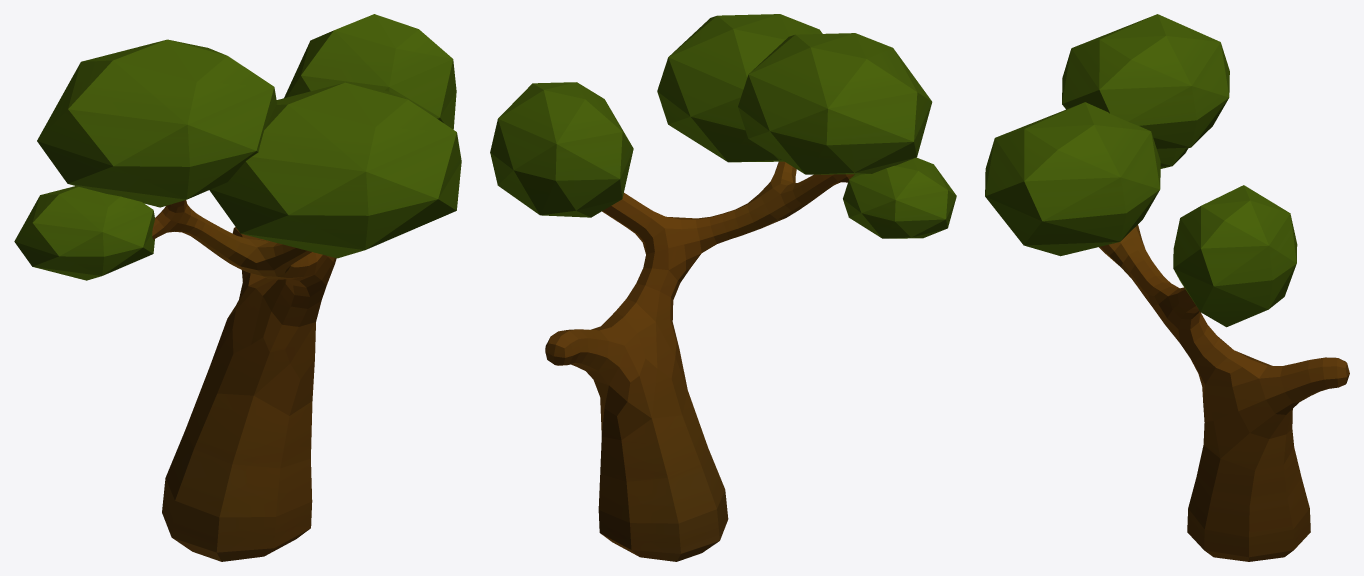
Rendered from arbol5.fbx.
The picture shows the model from 3 angles, left to right: view 1: azimuth 30°, elevation 25°; view 2: azimuth 150°, elevation 25°; view 3: azimuth 270°, elevation 25°; orthographic projection. The views are drawn at different scales.
Parts seen in each view (by area): view 1: Plane.003; view 2: Plane.003; view 3: Plane.003.
Part boxes in pixels (x1=…): Plane.003: x1=14, y1=14, x2=461, y2=561; Plane.003: x1=490, y1=14, x2=956, y2=561; Plane.003: x1=985, y1=14, x2=1349, y2=561.
Bounding box in the file's own units: 297 × 342 × 242.
